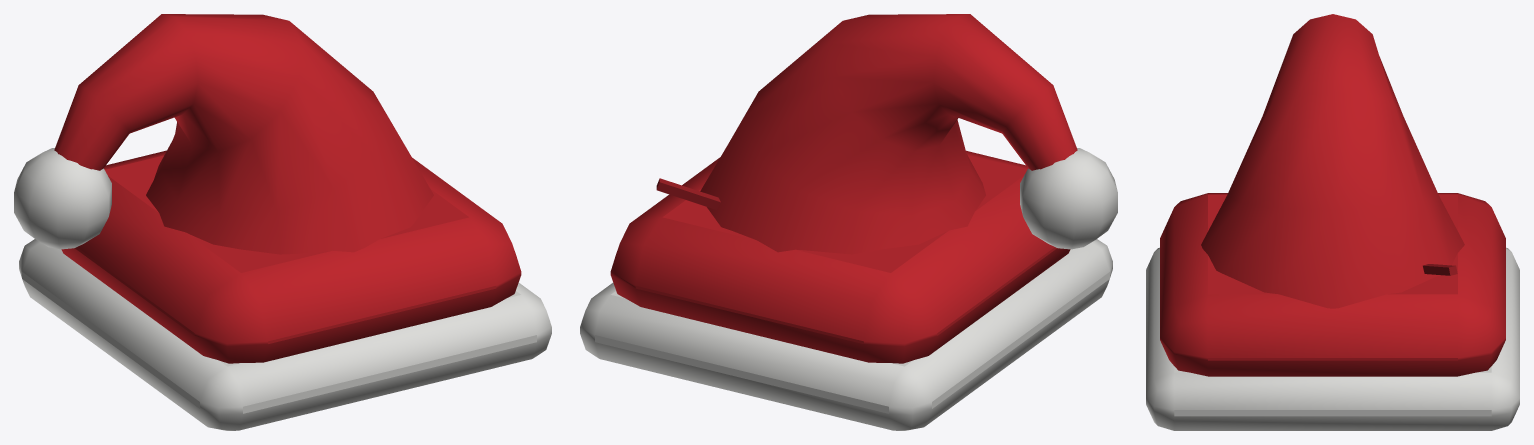
File: hat-santa.glb
3 views of the same model, side by side, from view 1: azimuth 30°, elevation 25°; view 2: azimuth 150°, elevation 25°; view 3: azimuth 270°, elevation 25° (orthographic). The views are drawn at different scales.
Parts seen in each view (by area): view 1: Hat; view 2: Hat; view 3: Hat.
Part boxes in pixels (x1,y1,x2,y2): Hat: (14, 14, 551, 430); Hat: (580, 14, 1117, 430); Hat: (1146, 14, 1519, 430).
Size of the model in its own units: 0.6403 by 0.4749 by 0.53.
